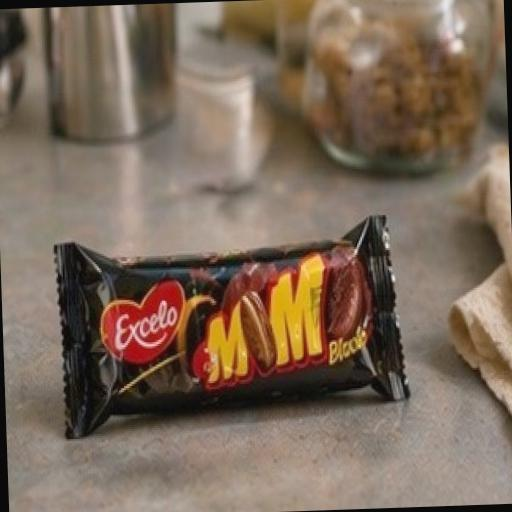MOMO: (12, 152, 436, 484)
